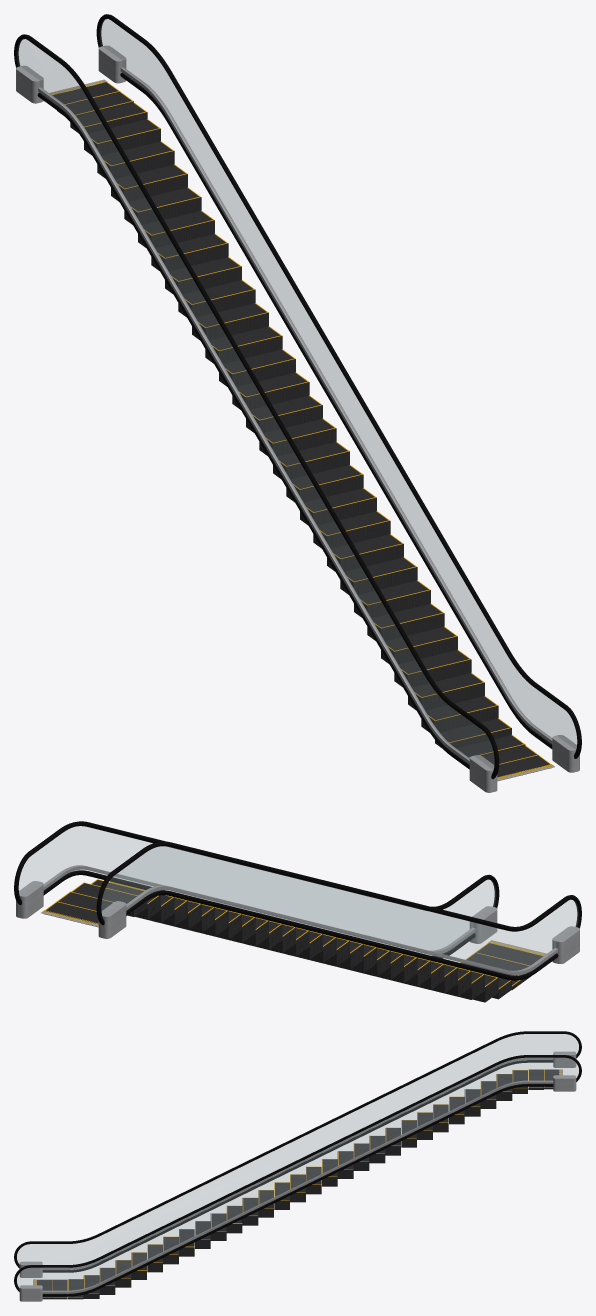
The model's file is gteki_ik_escalator_w1093_rise5838_a2840.glb.
3 views of the same model, one above another, from view 1: azimuth 30°, elevation 25°; view 2: azimuth 150°, elevation 25°; view 3: azimuth 270°, elevation 25° (orthographic). The views are drawn at different scales.
Visible parts, largest first — view 1: VIS_steps, VIS_balustrades, VIS_moving_handrails, VIS_balustrade_shoes, VIS_demarcation, VIS_newel_bases; view 2: VIS_balustrades, VIS_steps, VIS_moving_handrails, VIS_newel_bases, VIS_balustrade_shoes, VIS_demarcation, VIS_comb_plates; view 3: VIS_balustrades, VIS_steps, VIS_moving_handrails, VIS_balustrade_shoes, VIS_newel_bases, VIS_demarcation.
Boxes of the visible parts, x1,y1,x2,y2 form: VIS_steps: [52, 82, 551, 780]; VIS_balustrades: [17, 19, 576, 769]; VIS_moving_handrails: [14, 14, 581, 779]; VIS_balustrade_shoes: [38, 67, 552, 764]; VIS_demarcation: [65, 82, 551, 778]; VIS_newel_bases: [16, 45, 579, 792]; VIS_balustrades: [19, 826, 578, 975]; VIS_steps: [44, 880, 542, 1002]; VIS_moving_handrails: [14, 821, 581, 980]; VIS_newel_bases: [16, 881, 579, 963]; VIS_balustrade_shoes: [43, 865, 557, 975]; VIS_demarcation: [44, 879, 542, 989]; VIS_comb_plates: [41, 910, 546, 955]; VIS_balustrades: [17, 1034, 578, 1293]; VIS_steps: [37, 1069, 559, 1299]; VIS_moving_handrails: [14, 1031, 581, 1296]; VIS_balustrade_shoes: [42, 1057, 553, 1293]; VIS_newel_bases: [19, 1051, 576, 1301]; VIS_demarcation: [36, 1069, 558, 1297].
Size of the model in its own units: 1.61 by 6.87 by 14.31.
5 materials, 2 textured.
